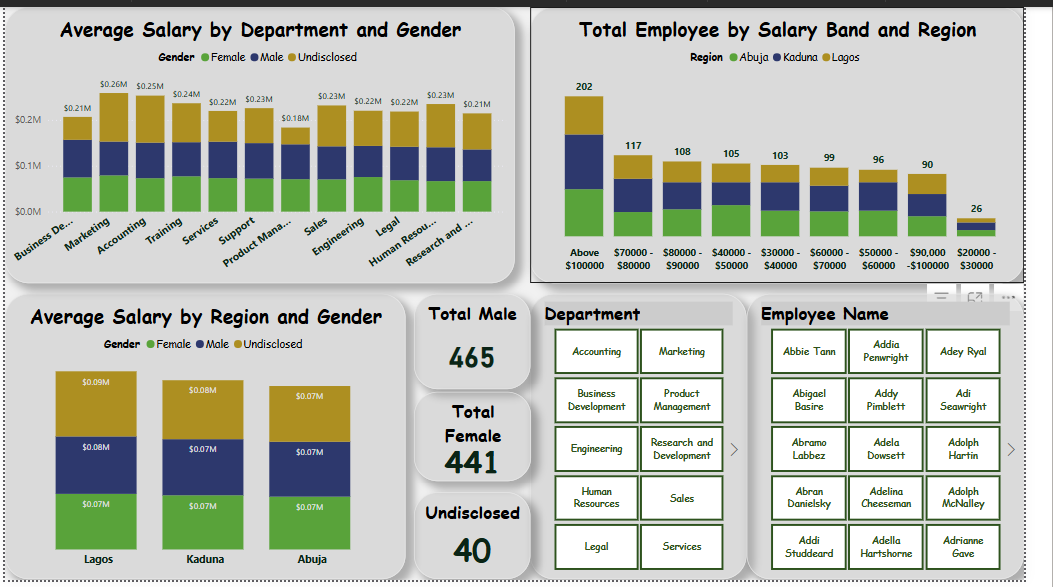

This screenshot's page, from the dashboard's own definition file:
{"tool":"powerbi","page":{"name":"Page 2","canvas":[1280,720],"ordinal":1},"visuals":[{"type":"columnChart","title":"Average Salary by Region and Gender","fields":{"Y":["Palmoria Group emp-data.Salary"],"Series":["Palmoria Group emp-data.Gender"],"Category":["Palmoria Group emp-data.Location"]},"box":[0,360.4,503.3,358.9],"z":0},{"type":"columnChart","title":"Average Salary by Department and Gender","fields":{"Y":["Palmoria Group emp-data.Salary"],"Series":["Palmoria Group emp-data.Gender"],"Category":["Palmoria Group emp-data.Department"]},"box":[0,0,640.2,346.7],"z":1000},{"type":"columnChart","title":"Total Employee by Salary Band and Region","fields":{"Category":["Palmoria Group emp-data.Salary Band"],"Y":["Palmoria Group emp-data.TotalEmployee"],"Series":["Palmoria Group emp-data.Location"]},"box":[660,0,620.4,346.7],"z":2000},{"type":"slicer","fields":{"Values":["Palmoria Group emp-data.Department"]},"box":[660,360.4,272.2,358.9],"z":3000},{"type":"slicer","fields":{"Values":["Palmoria Group emp-data.Name"]},"box":[932.2,360.4,348.2,358.9],"z":4000},{"type":"card","title":"Total Male","fields":{"Values":["Palmoria Group emp-data.TotalMale"]},"box":[514,360.4,146,120.1],"z":5000},{"type":"card","title":"Total Female","fields":{"Values":["Palmoria Group emp-data.TotalFemale"]},"box":[514,483.6,147.5,112.5],"z":6000},{"type":"card","title":"Undisclosed","fields":{"Values":["Palmoria Group emp-data.TotalUndisclosed"]},"box":[514,609.8,146,109.5],"z":7000}]}

Visuals, with their boxes in screenshot pixels (x1, y1, x2, y2), scaled from the page's 1280x720 canvas onto the 1053x587 screenshot:
"Average Salary by Region and Gender" columnChart: 0/294/414/586
"Average Salary by Department and Gender" columnChart: 0/0/527/283
"Total Employee by Salary Band and Region" columnChart: 543/0/1052/283
slicer - Palmoria Group emp-data.Department: 543/294/767/586
slicer - Palmoria Group emp-data.Name: 767/294/1052/586
"Total Male" card: 423/294/543/392
"Total Female" card: 423/394/544/486
"Undisclosed" card: 423/497/543/586
